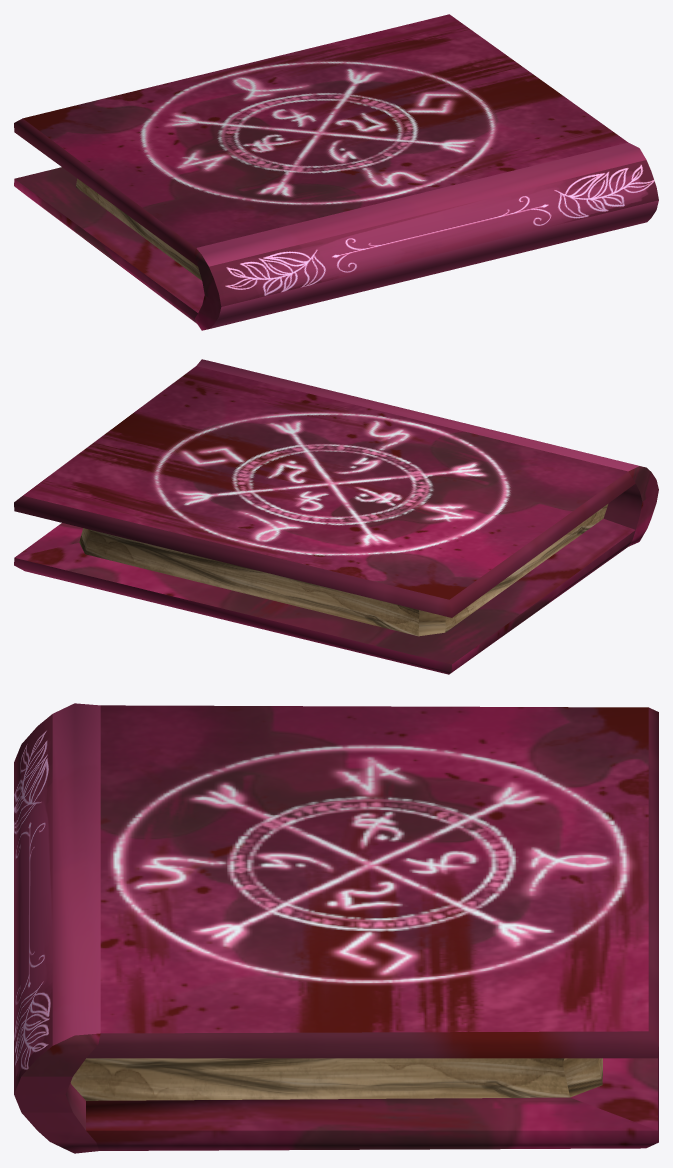
File: Book_Simple_1.fbx
The picture shows the model from 3 angles, top to bottom: view 1: azimuth 30°, elevation 25°; view 2: azimuth 150°, elevation 25°; view 3: azimuth 270°, elevation 25°; orthographic projection. The views are drawn at different scales.
Visible parts, largest first — view 1: BookSimple; view 2: BookSimple; view 3: BookSimple.
Boxes of the visible parts, x1,y1,x2,y2 form: BookSimple: [14, 14, 658, 330]; BookSimple: [14, 359, 658, 674]; BookSimple: [14, 703, 658, 1153].
Size of the model in its own units: 33.11 by 5.49 by 27.17.
